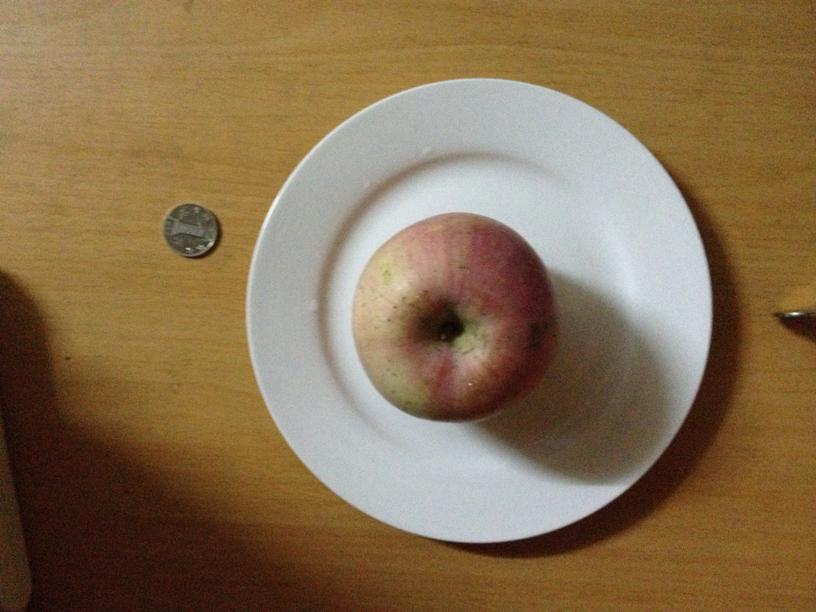apple: (350, 209, 558, 422)
coin: (160, 202, 220, 257)
